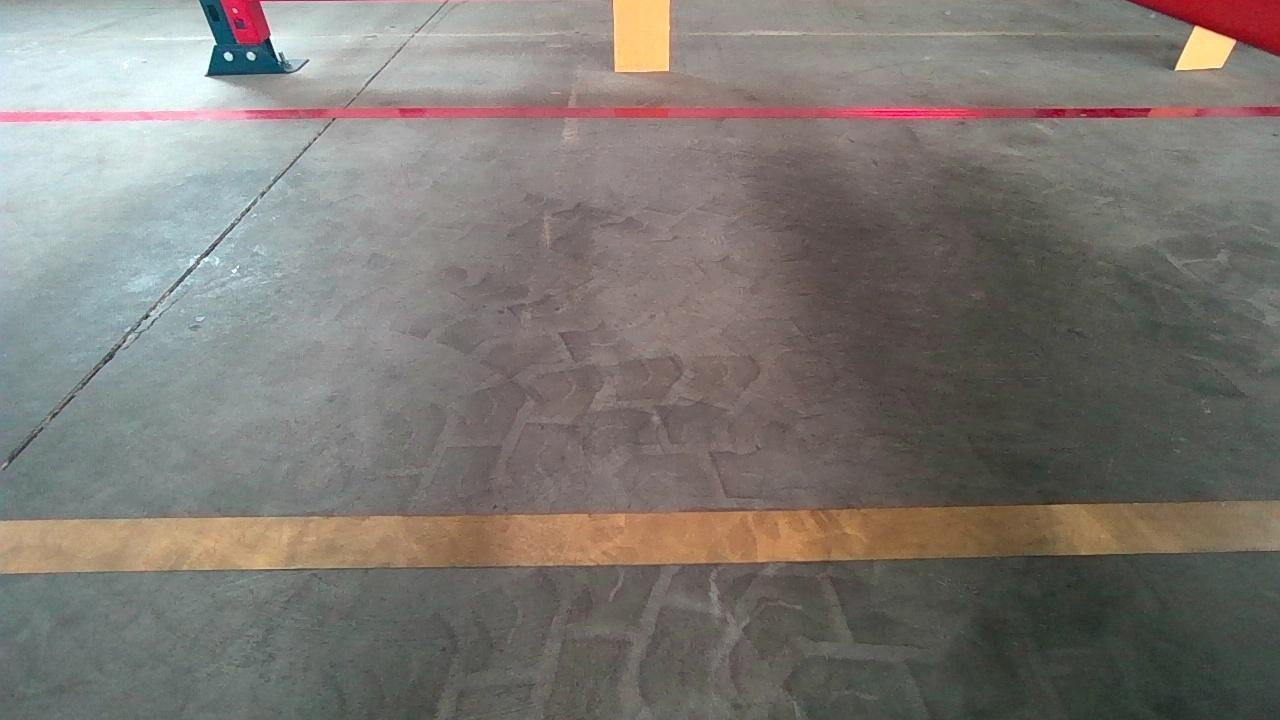red_line: (3, 101, 1275, 138)
yellow_line: (5, 499, 1270, 575)
